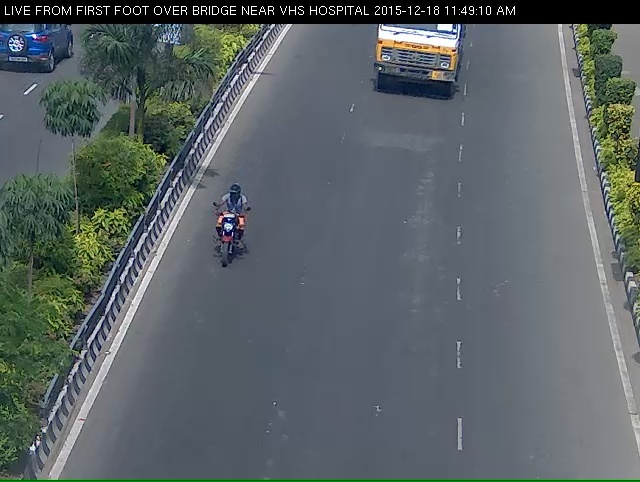Bus: (362, 24, 471, 110)
Person: (197, 198, 248, 290)
